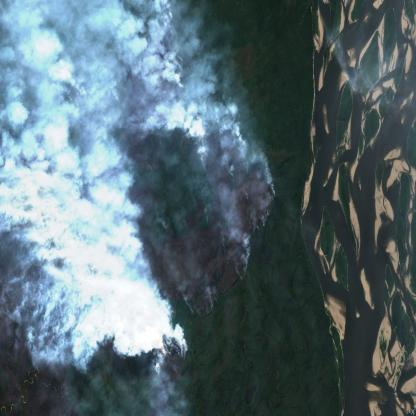fire: (119, 0, 188, 141), (78, 309, 194, 391), (195, 106, 262, 186), (64, 69, 110, 118)
